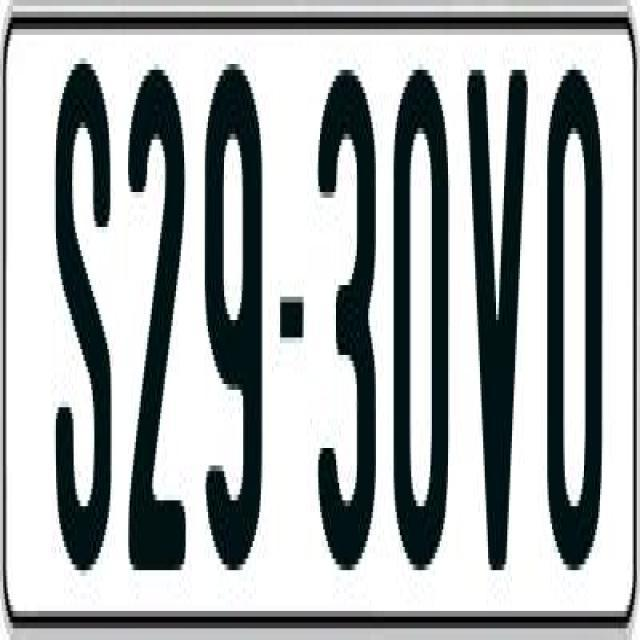0: (390, 52, 448, 576), (546, 70, 602, 588)
2: (128, 52, 192, 576)
3: (318, 58, 378, 564)
9: (200, 52, 258, 558)
S: (56, 58, 112, 594)
V: (464, 64, 534, 570)
